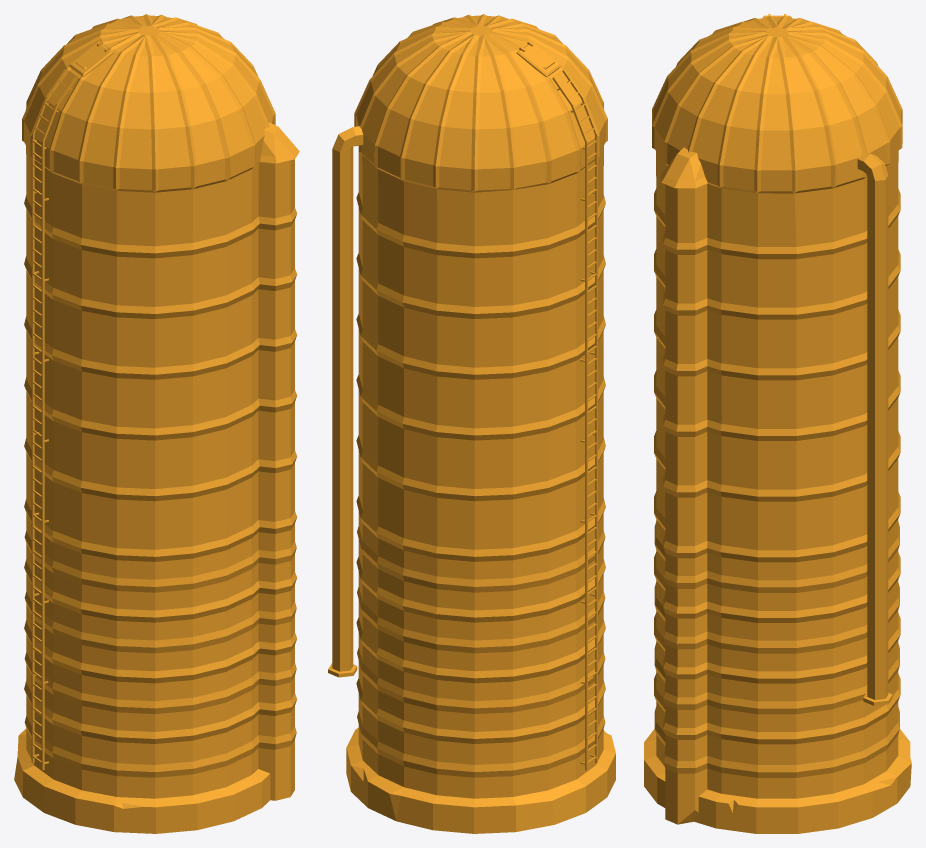
File: SM_Silo_Grain_New.fbx
3 renders of one model, left to right at view 1: azimuth 30°, elevation 25°; view 2: azimuth 150°, elevation 25°; view 3: azimuth 270°, elevation 25°, orthographic.
Parts seen in each view (by area): view 1: silo-grain-new; view 2: silo-grain-new; view 3: silo-grain-new.
Part boxes in pixels (box(x1,y1,x2,y2)): silo-grain-new: box(14, 14, 299, 833); silo-grain-new: box(328, 14, 615, 833); silo-grain-new: box(644, 14, 911, 833).
Size of the model in its own units: 6 by 18.56 by 6.04.
